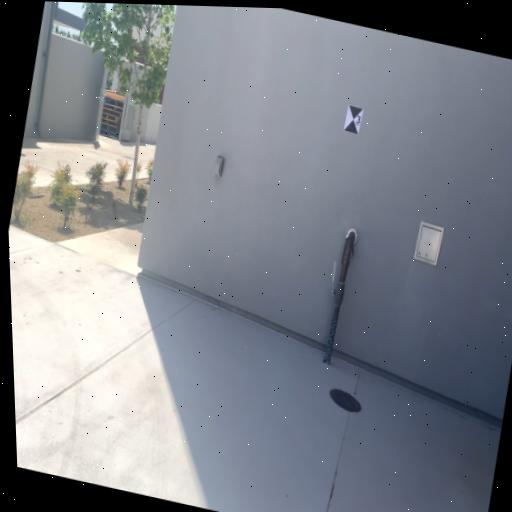target3: (343, 104, 364, 136)
